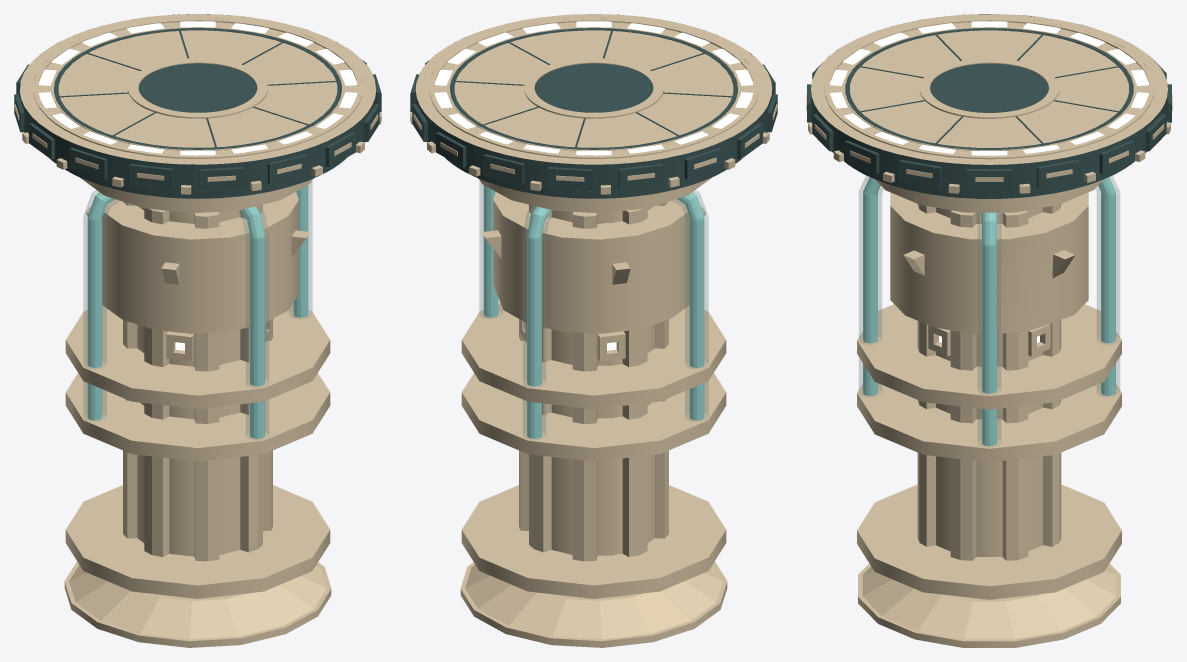
File: Platform_Relay_v3_D18.glb
3 views of the same model, side by side, from view 1: azimuth 30°, elevation 25°; view 2: azimuth 150°, elevation 25°; view 3: azimuth 270°, elevation 25° (orthographic).
Parts seen in each view (by area): view 1: Platform_Relay_v3_D18; view 2: Platform_Relay_v3_D18; view 3: Platform_Relay_v3_D18.
Part boxes in pixels (x1,y1,x2,y2): Platform_Relay_v3_D18: (14,14,381,647); Platform_Relay_v3_D18: (410,14,777,647); Platform_Relay_v3_D18: (806,14,1172,647).
Bounding box in the file's own units: 12.32 × 18.71 × 12.32.
